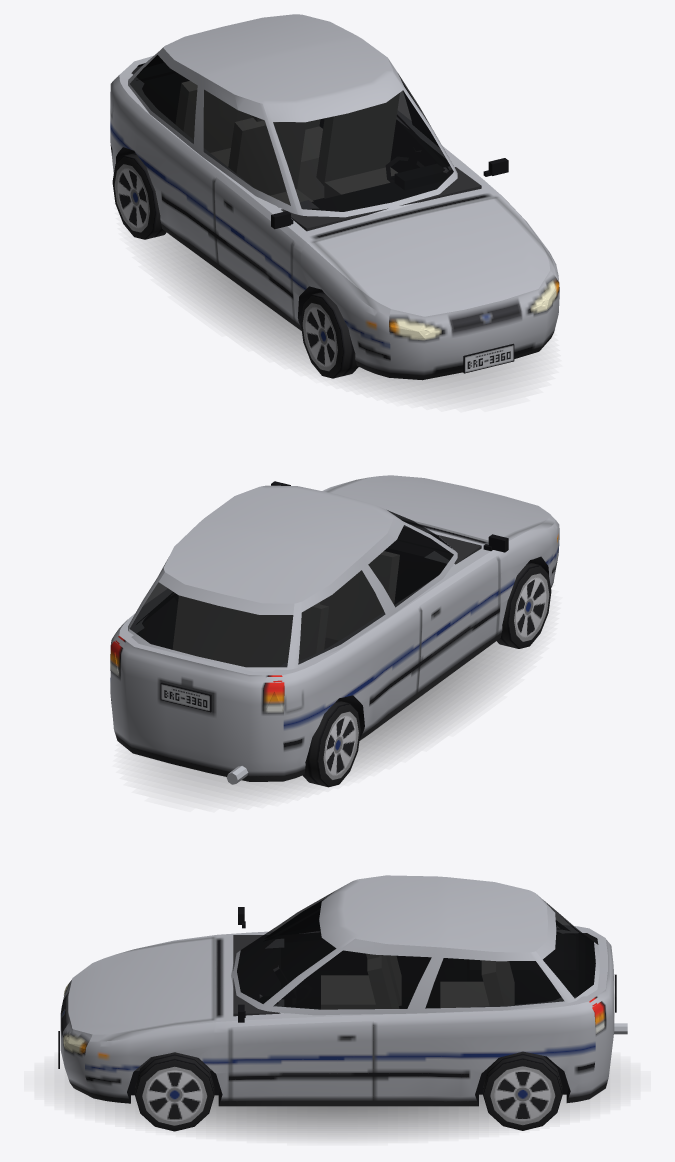
The model's file is brigadeiro.glb.
3 renders of one model, top to bottom at view 1: azimuth 30°, elevation 25°; view 2: azimuth 150°, elevation 25°; view 3: azimuth 270°, elevation 25°, orthographic. The views are drawn at different scales.
Parts seen in each view (by area): view 1: Carroceria, Interior, Capo_malha, Porta_D_malha, Sombra, Roda_DD, Roda_TD, Porta_E_malha, Farol; view 2: Carroceria, Tampa_malha, Interior, Porta_D_malha, Sombra, Capo_malha, Roda_TD, Roda_DD; view 3: Carroceria, Interior, Porta_E_malha, Capo_malha, Sombra, Tampa_malha, Roda_TE, Roda_DE, Porta_D_malha.
Boxes of the visible parts, <box> form: Carroceria: <box>110,14,559,380</box>; Interior: <box>131,63,481,231</box>; Capo_malha: <box>313,197,555,316</box>; Porta_D_malha: <box>213,98,297,318</box>; Sombra: <box>146,233,532,396</box>; Roda_DD: <box>300,292,358,378</box>; Roda_TD: <box>112,153,166,239</box>; Porta_E_malha: <box>390,64,508,176</box>; Farol: <box>390,283,559,339</box>; Carroceria: <box>110,478,559,784</box>; Tampa_malha: <box>120,572,294,761</box>; Interior: <box>137,527,481,666</box>; Porta_D_malha: <box>390,518,508,690</box>; Sombra: <box>142,641,525,796</box>; Capo_malha: <box>327,475,555,541</box>; Roda_TD: <box>302,700,360,787</box>; Roda_DD: <box>497,562,551,648</box>; Carroceria: <box>58,875,627,1106</box>; Interior: <box>135,909,598,1070</box>; Porta_E_malha: <box>230,938,373,1098</box>; Capo_malha: <box>73,937,214,1041</box>; Sombra: <box>64,1071,610,1137</box>; Tampa_malha: <box>536,894,616,1072</box>; Roda_TE: <box>483,1051,562,1130</box>; Roda_DE: <box>135,1052,214,1131</box>; Porta_D_malha: <box>238,900,322,937</box>.
Size of the model in its own units: 2.36 by 1.47 by 4.87.
Materials: 12 (6 with a texture image).
